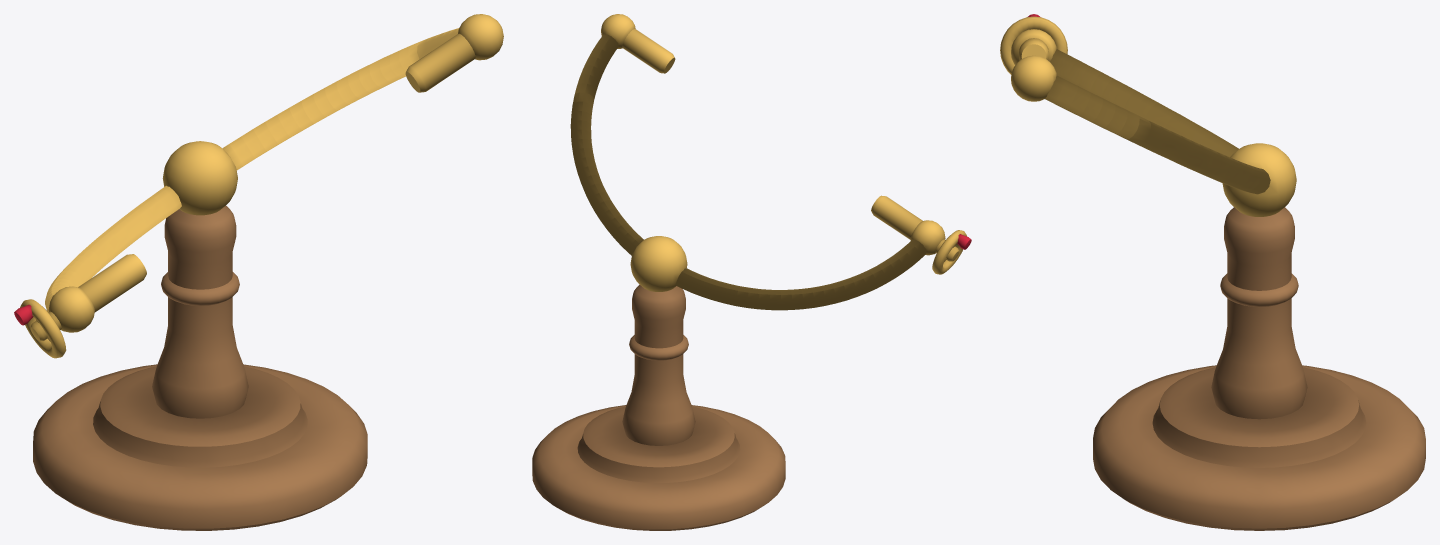
The model's file is globe_mount.glb.
3 views of the same model, side by side, from view 1: azimuth 30°, elevation 25°; view 2: azimuth 150°, elevation 25°; view 3: azimuth 270°, elevation 25° (orthographic). The views are drawn at different scales.
Parts seen in each view (by area): view 1: globe_mount_base_wooddark, globe_mount_ring, globe_mount_base_brass, globe_mount_spin_mesh_brass; view 2: globe_mount_base_wooddark, globe_mount_ring, globe_mount_base_brass, globe_mount_spin_mesh_brass; view 3: globe_mount_base_wooddark, globe_mount_ring, globe_mount_base_brass, globe_mount_spin_mesh_brass.
Boxes of the visible parts, left/top/right/bottom form: globe_mount_base_wooddark: left=33, top=205, right=367, bottom=530; globe_mount_ring: left=45, top=14, right=503, bottom=332; globe_mount_base_brass: left=162, top=141, right=237, bottom=215; globe_mount_spin_mesh_brass: left=20, top=299, right=66, bottom=358; globe_mount_base_wooddark: left=532, top=284, right=785, bottom=530; globe_mount_ring: left=570, top=14, right=945, bottom=310; globe_mount_base_brass: left=630, top=236, right=687, bottom=291; globe_mount_spin_mesh_brass: left=932, top=230, right=966, bottom=274; globe_mount_base_wooddark: left=1093, top=207, right=1425, bottom=530; globe_mount_ring: left=1011, top=29, right=1270, bottom=194; globe_mount_base_brass: left=1222, top=143, right=1296, bottom=216; globe_mount_spin_mesh_brass: left=1000, top=16, right=1067, bottom=74.
Bounding box in the file's own units: 3.12 × 3.01 × 2.39.
